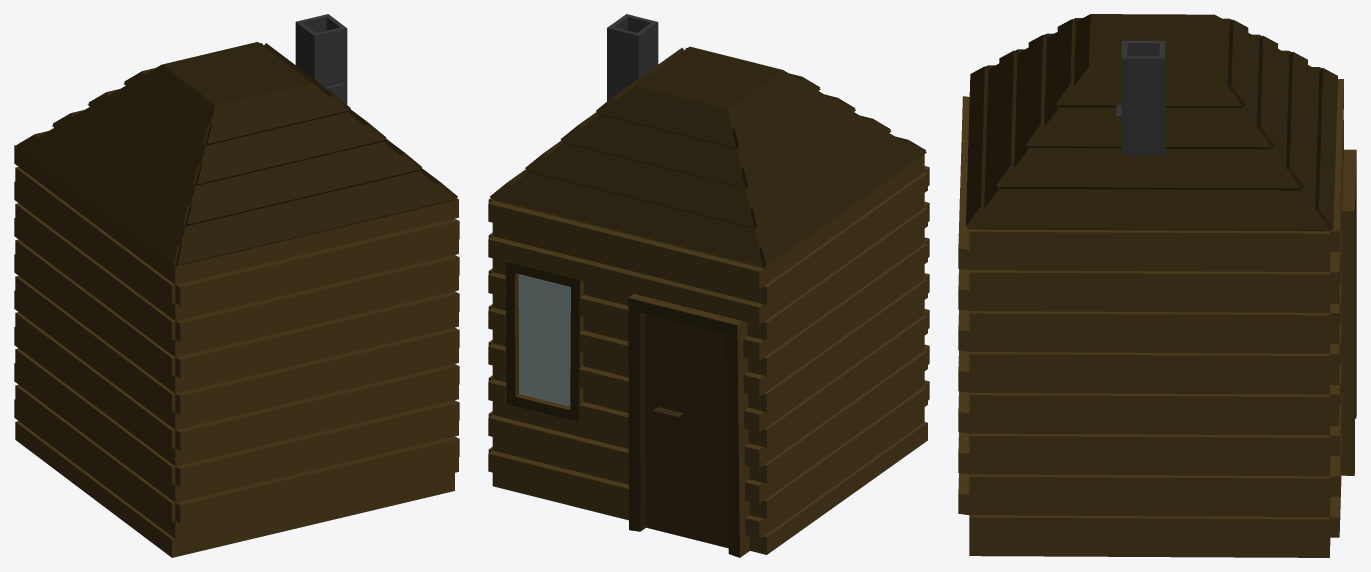
File: Home.fbx
3 views of the same model, side by side, from view 1: azimuth 30°, elevation 25°; view 2: azimuth 150°, elevation 25°; view 3: azimuth 270°, elevation 25° (orthographic). The views are drawn at different scales.
Parts seen in each view (by area): view 1: House_1; view 2: House_1; view 3: House_1.
Boxes of the visible parts, x1,y1,x2,y2 form: House_1: [14, 14, 459, 557]; House_1: [488, 14, 929, 557]; House_1: [958, 14, 1356, 557].
Size of the model in its own units: 208 by 291 by 221.
